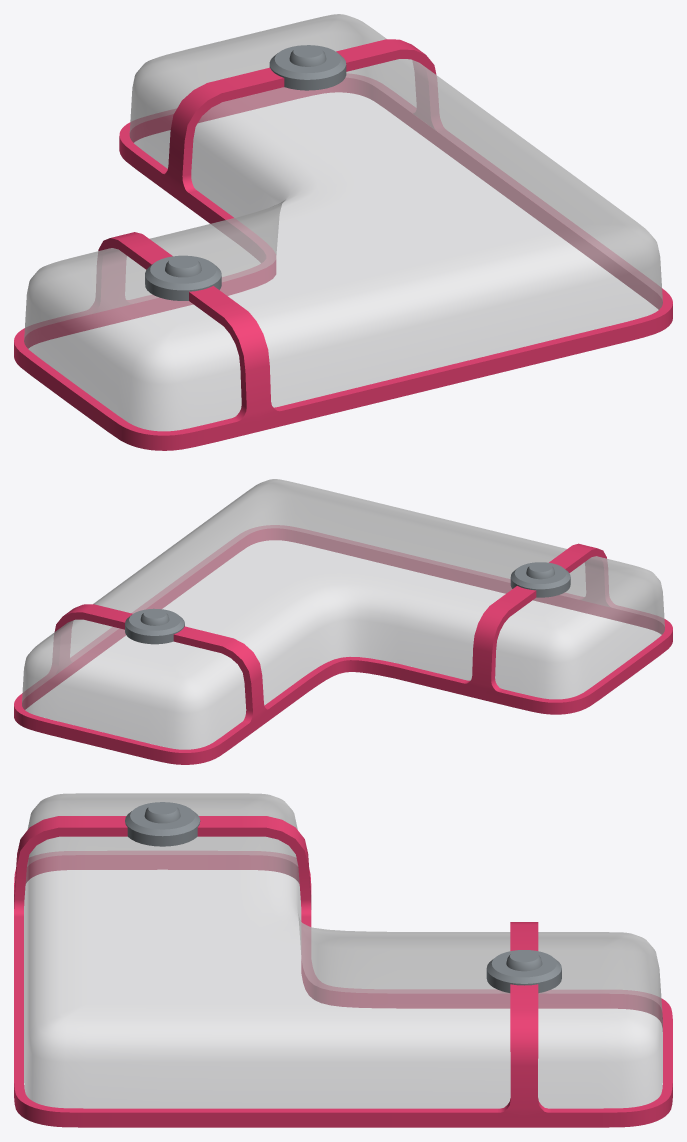
File: hop_L_L_1.fbx
3 renders of one model, top to bottom at view 1: azimuth 30°, elevation 25°; view 2: azimuth 150°, elevation 25°; view 3: azimuth 270°, elevation 25°, orthographic. The views are drawn at different scales.
Parts seen in each view (by area): view 1: Cube.145, Cube.149, Cylinder.109, Cylinder.104; view 2: Cube.145, Cube.149, Cylinder.109, Cylinder.104; view 3: Cube.145, Cube.149, Cylinder.104, Cylinder.109.
Boxes of the visible parts, <box> form: Cube.145: <box>24,14,662,431</box>; Cube.149: <box>14,39,672,450</box>; Cylinder.109: <box>269,45,346,90</box>; Cylinder.104: <box>145,255,221,300</box>; Cube.145: <box>22,479,664,749</box>; Cube.149: <box>14,525,672,764</box>; Cylinder.109: <box>125,608,184,644</box>; Cylinder.104: <box>510,562,570,597</box>; Cube.145: <box>24,793,662,1108</box>; Cube.149: <box>14,816,672,1127</box>; Cylinder.104: <box>125,802,200,846</box>; Cylinder.109: <box>486,950,561,993</box>.
Bounding box in the file's own units: 377 × 75 × 401.
